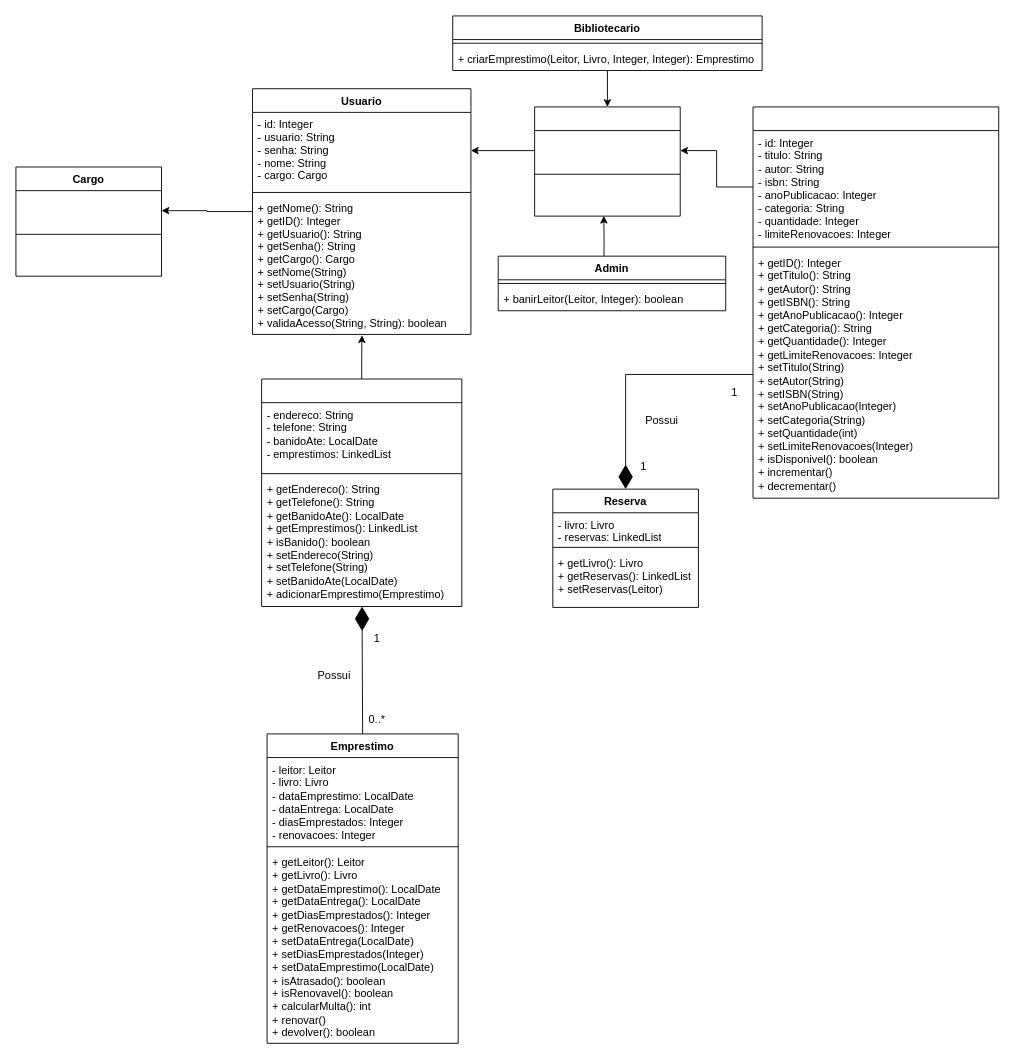
Some shapes in this 1015 by 1062 pixel diagram are drawn without their labels. The box of each missing label's shape, as (x1, y1, x2, y2) in pixels:
Leitor: (261, 378, 462, 607)
Livro: (752, 106, 999, 498)
Operadores: (534, 106, 680, 216)
